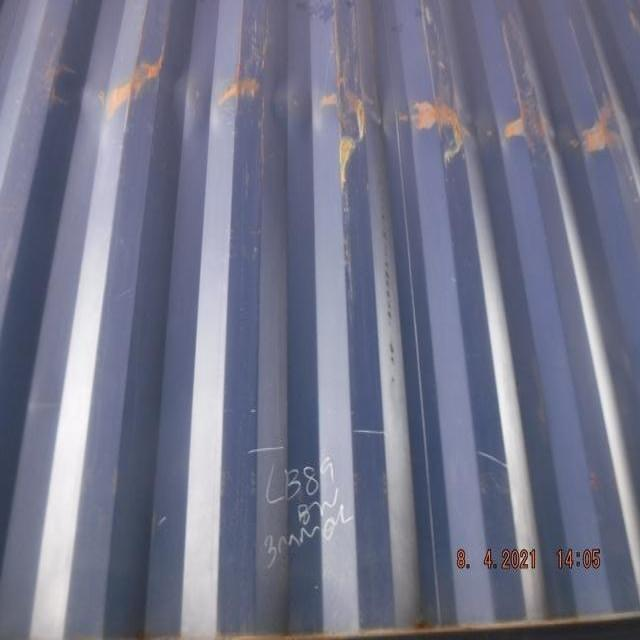dent: (118, 50, 631, 165)
